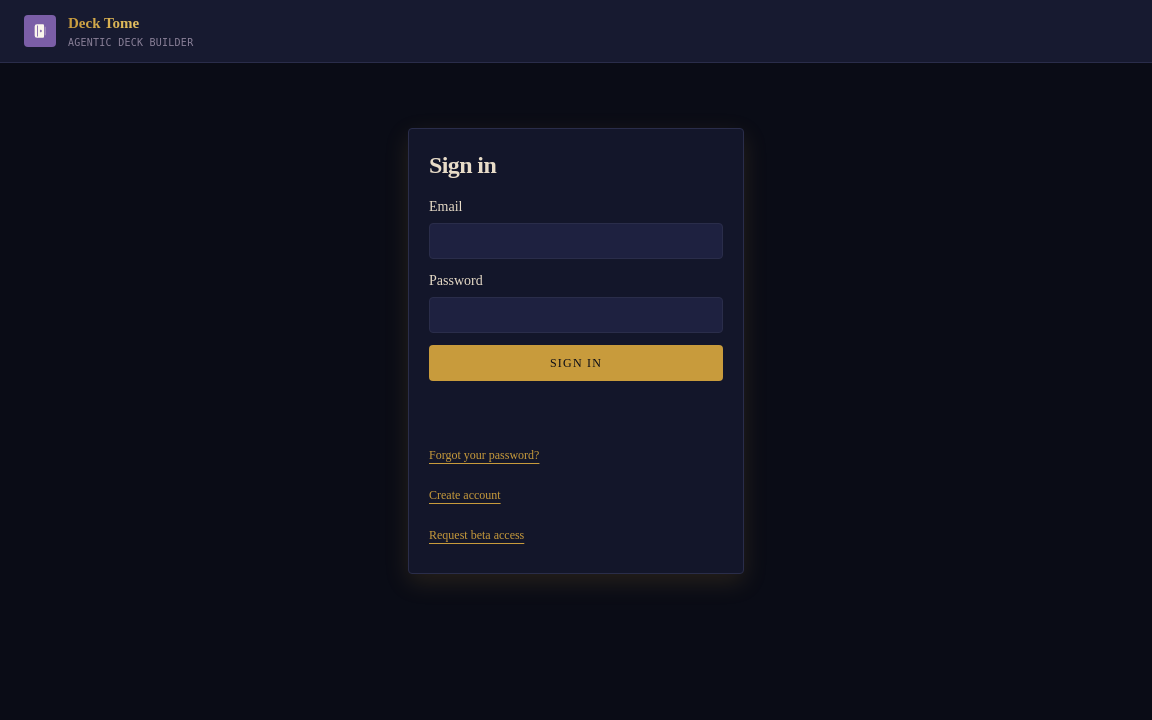
Test: SignInPage › refuses an email off the invite list and creates no account
This screenshot has width=1152, height=720.
Click the button "Create account": click(465, 494) [429,476,501,512]
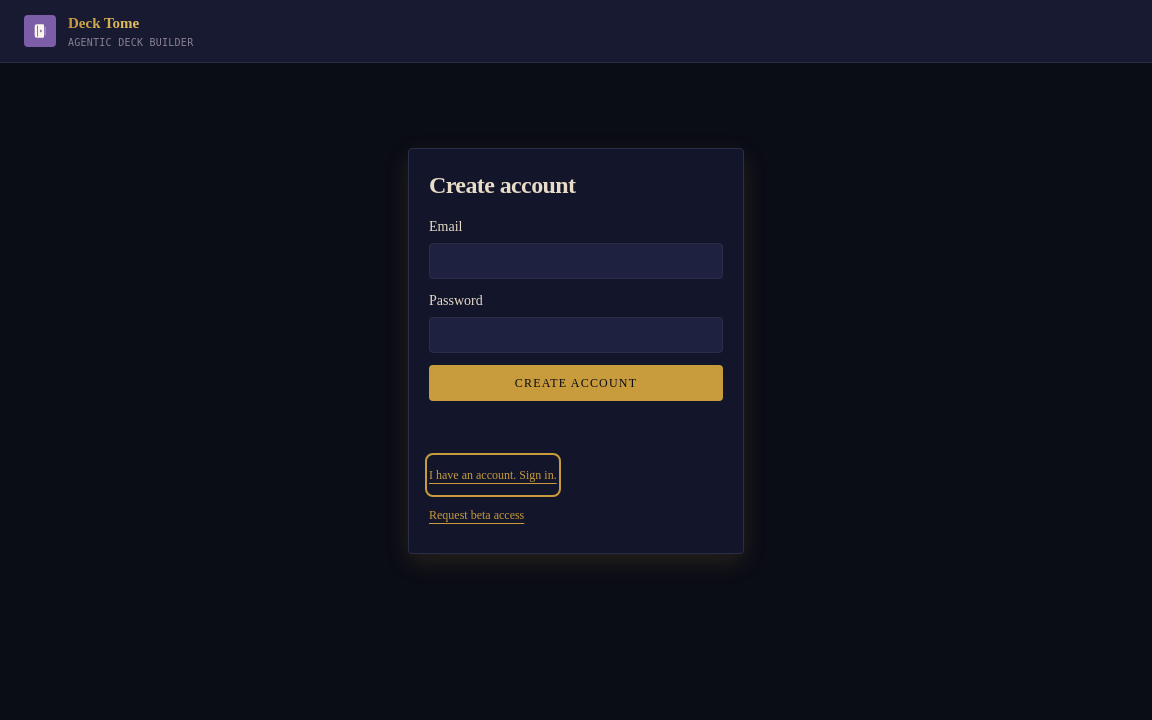
In the field labelled "Email": (576, 260) [429,242,723,278], type "off@example.com"
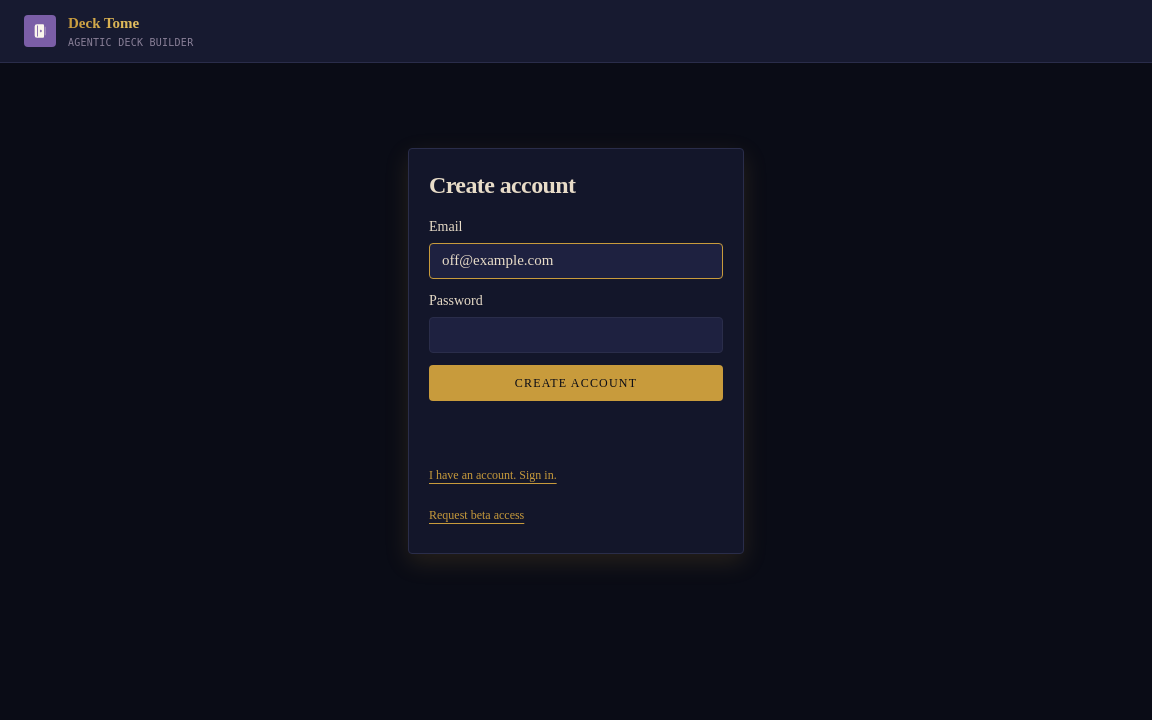
In the password field labelled "Password": (576, 334) [429,316,723,352], type "secret1"
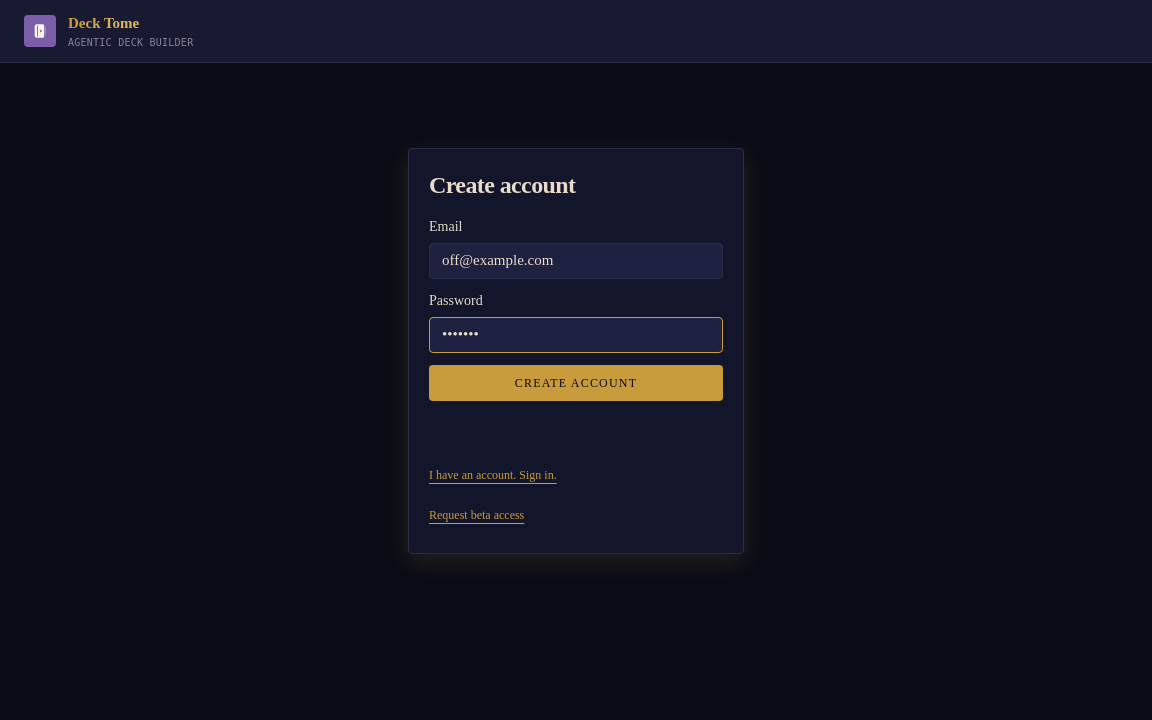
Click the button "Create account": click(576, 382) [429,364,723,400]
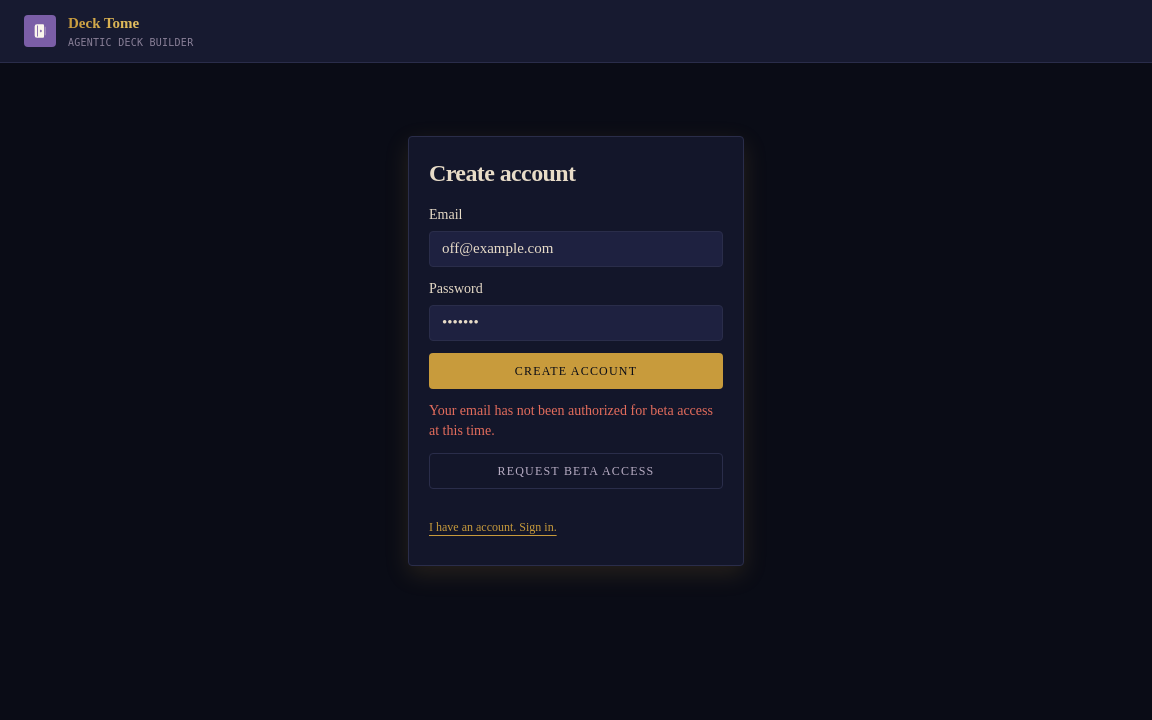
Result: the heading "Create account" is shown at [429,160,576,186]
Result: the message reads "Your email has not been authorized for beta access at this time." at [429,402,713,438]
